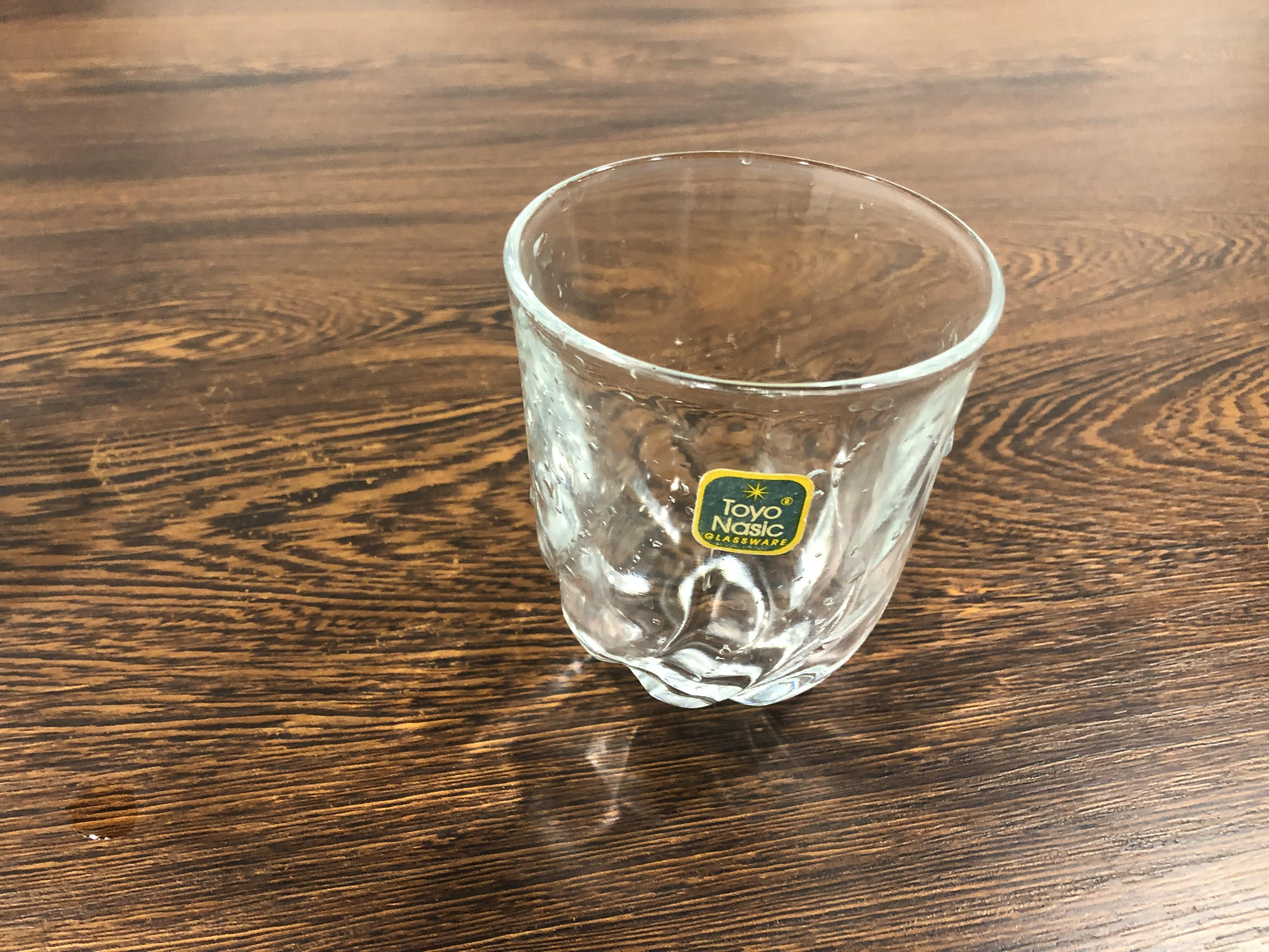glass-normal: (504, 145, 1010, 712)
